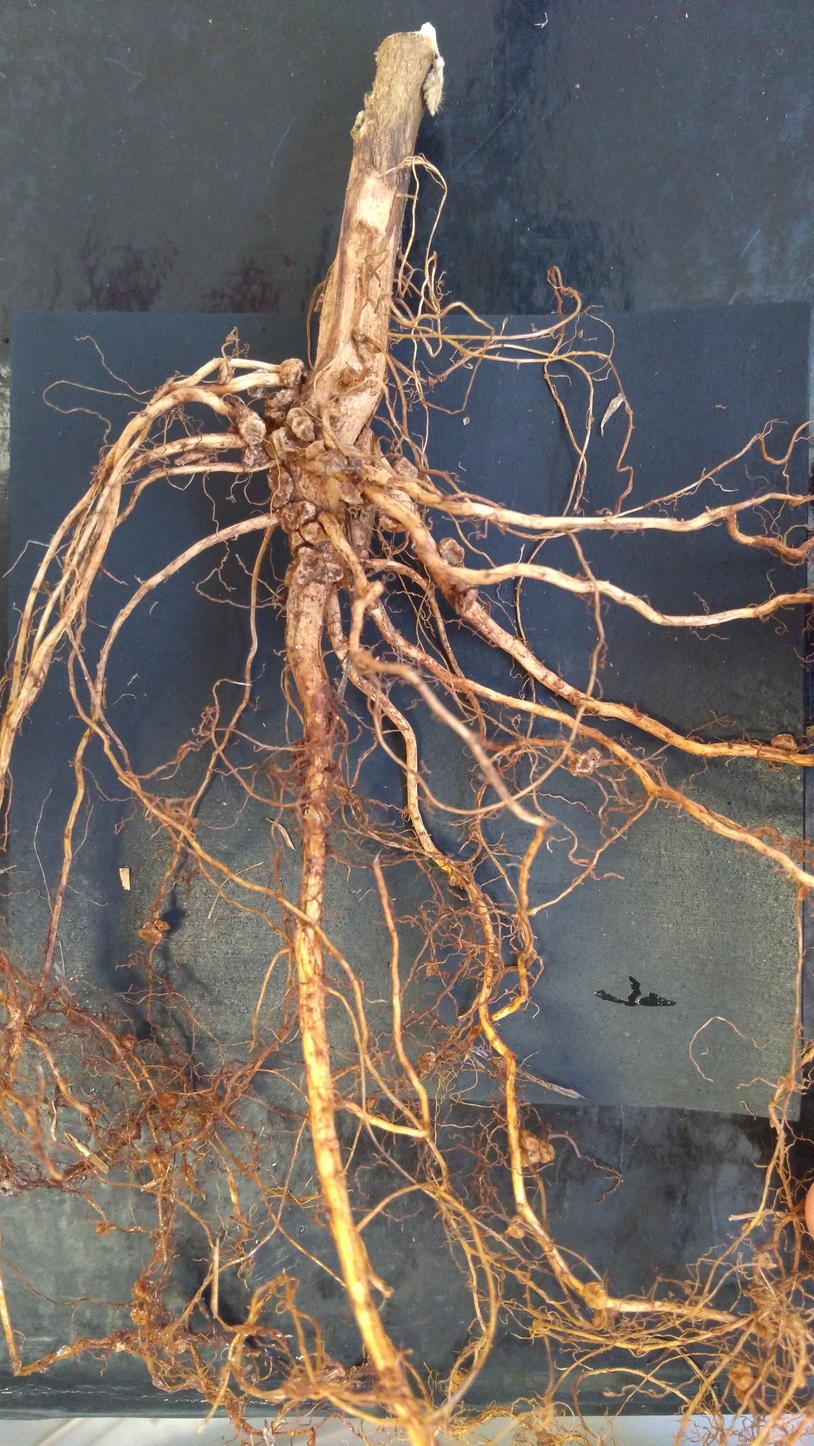nodule: (295, 546, 344, 586), (378, 489, 420, 534), (279, 499, 317, 534), (267, 465, 294, 509), (238, 411, 266, 444), (265, 426, 292, 460), (314, 449, 348, 476), (173, 445, 218, 465), (437, 536, 465, 566), (299, 520, 331, 546), (349, 516, 369, 557), (309, 679, 333, 713), (725, 1363, 754, 1391), (581, 1281, 608, 1311), (246, 368, 269, 400), (337, 480, 365, 505), (567, 754, 595, 779), (267, 387, 298, 409), (149, 1142, 169, 1176), (291, 415, 315, 441), (137, 921, 163, 945), (394, 455, 419, 479), (149, 1322, 174, 1346), (445, 869, 474, 888), (165, 1338, 191, 1359), (302, 804, 322, 831), (279, 365, 302, 388), (732, 1384, 757, 1405), (288, 531, 307, 558), (120, 1118, 142, 1141), (416, 1051, 437, 1075), (243, 444, 268, 464), (770, 732, 797, 750), (519, 1129, 541, 1151), (593, 1308, 615, 1330), (336, 568, 355, 593), (507, 1213, 525, 1239), (283, 558, 299, 587), (285, 407, 307, 427), (339, 365, 360, 385), (129, 1306, 150, 1326), (519, 1148, 540, 1168), (217, 362, 235, 385), (461, 588, 478, 612), (539, 1139, 556, 1163), (305, 439, 325, 459), (279, 357, 305, 372), (316, 804, 332, 827), (449, 575, 469, 593), (73, 1010, 91, 1028), (161, 1092, 179, 1110), (147, 1299, 162, 1320), (121, 1034, 139, 1051), (110, 1045, 127, 1063), (583, 746, 603, 761), (312, 293, 326, 314), (133, 1279, 149, 1297), (57, 1344, 73, 1359), (154, 919, 172, 932), (424, 960, 438, 976), (113, 1338, 128, 1352), (365, 342, 381, 355), (354, 380, 368, 393), (538, 1428, 551, 1442), (173, 1328, 188, 1340), (365, 1095, 378, 1108), (88, 1106, 102, 1118), (797, 886, 809, 900), (95, 1222, 108, 1234), (452, 1371, 463, 1385), (448, 1380, 459, 1394), (36, 1364, 51, 1374), (353, 331, 365, 343), (180, 1163, 192, 1174), (329, 1138, 340, 1149), (232, 1238, 241, 1248), (741, 1222, 750, 1232), (427, 376, 435, 386), (768, 1118, 776, 1128), (755, 1218, 762, 1227), (414, 369, 421, 377), (437, 375, 444, 382), (442, 374, 448, 381)
